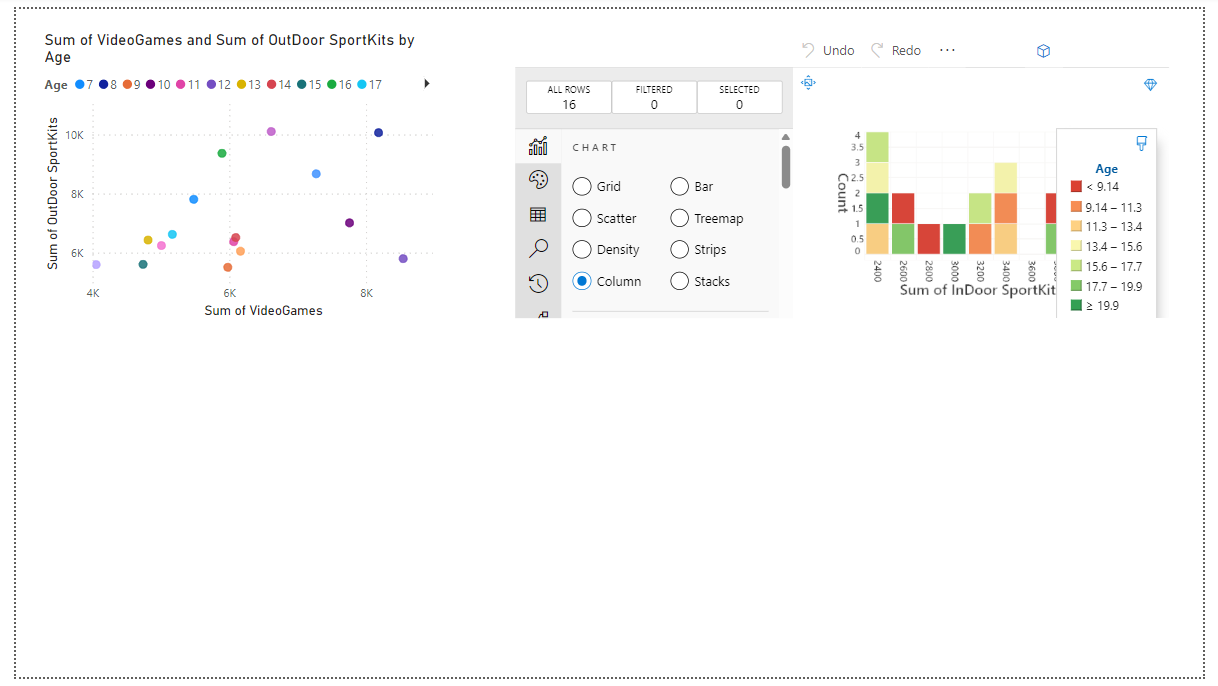

The dashboard page shown, as its layout file describes it:
{"tool":"powerbi","page":{"name":"Page 2","canvas":[1280,720],"ordinal":1},"visuals":[{"type":"scatterChart","fields":{"X":["Sum(Student Survey.VideoGames)"],"Series":["Student Survey.Age"],"Y":["Sum(Student Survey.OutDoor SportKits)"]},"box":[25.7,22.9,437.1,315.7],"z":0},{"type":"SandDance201929976D117A654D0BAB8E96507442D80B","fields":{"values":["Sum(Student Survey.InDoor SportKits)","Sum(Student Survey.VideoGames)","Student Survey.Age"]},"box":[532.5,21.2,715.2,316.6],"z":1000}]}

Visuals, with their boxes on the page's 1280x720 design canvas (x1, y1, x2, y2). These are canvas units, not pixel positions in the 1218x686 screenshot, which may show the page scaled, cropped or inside an application window:
scatterChart - Sum(Student Survey.VideoGames) x Student Survey.Age: 26, 23, 463, 339
SandDance201929976D117A654D0BAB8E96507442D80B - Sum(Student Survey.InDoor SportKits) x Sum(Student Survey.VideoGames): 532, 21, 1248, 338
